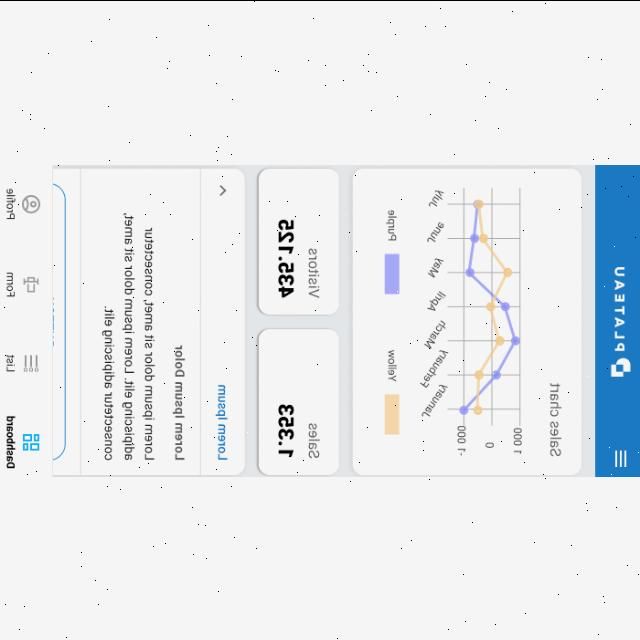Line: (377, 180, 566, 462)
QLabel: (100, 206, 162, 464), (170, 340, 188, 464), (276, 212, 300, 298), (212, 379, 232, 461), (275, 399, 297, 458), (302, 243, 324, 297), (5, 411, 18, 469), (307, 418, 323, 460), (3, 184, 17, 220), (4, 268, 16, 298), (2, 350, 18, 372)
VAppBar: (594, 164, 640, 476)
VBottomNavigation: (1, 164, 54, 476)
VCard: (353, 164, 584, 476), (256, 164, 342, 316), (255, 326, 342, 476)
VDivider: (77, 170, 86, 472)
VExpansionPanel: (58, 170, 242, 470)
VIcon: (20, 192, 42, 214), (21, 351, 41, 374), (22, 429, 42, 451), (612, 444, 628, 471), (22, 274, 40, 294)
VImg: (606, 259, 636, 381)
